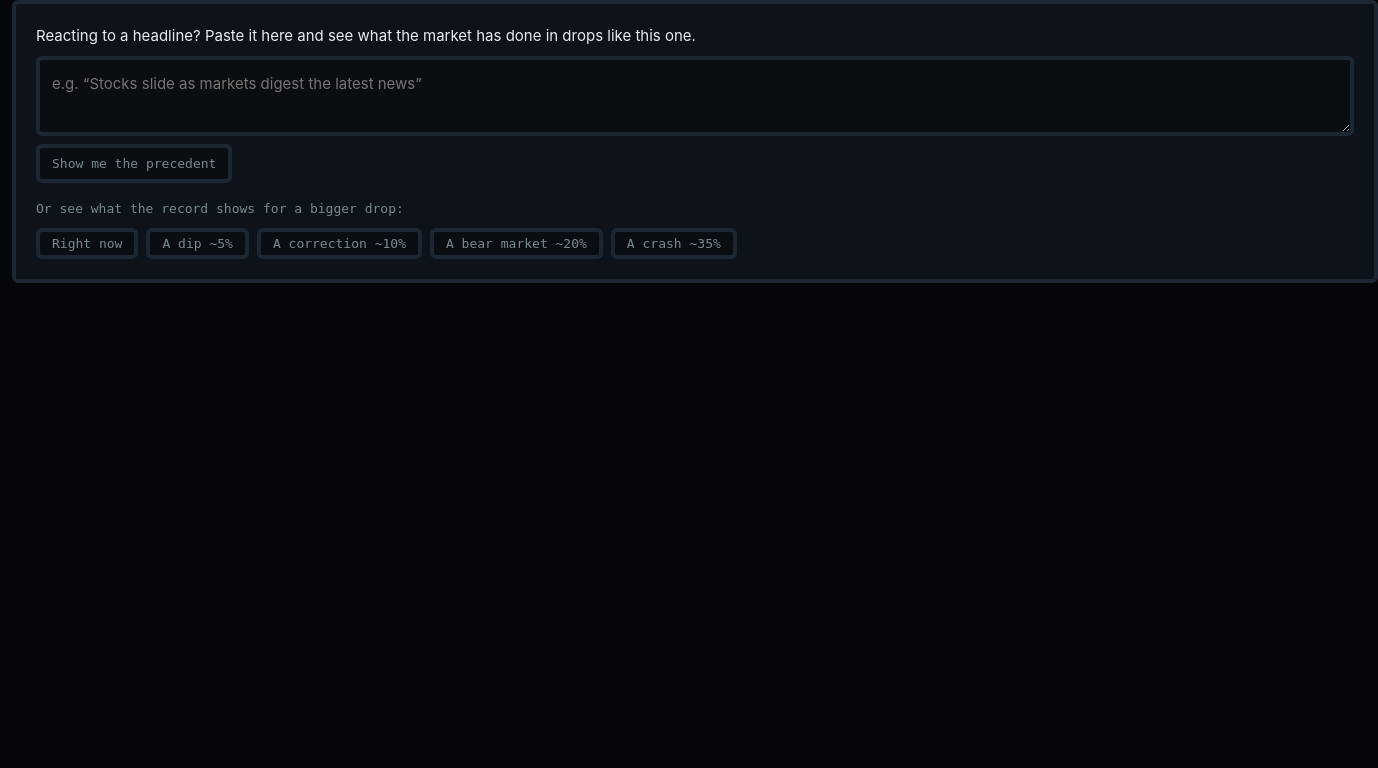
Test case: HeadlineContextualizer — pull-only, calm, non-interpretive › the default submit path (no scenario) still POSTs exactly { headline }
Type "Stocks slide" into the text box with test id "headline-input".
click(695, 96); type("Stocks slide")  # box [36, 56, 1354, 136]
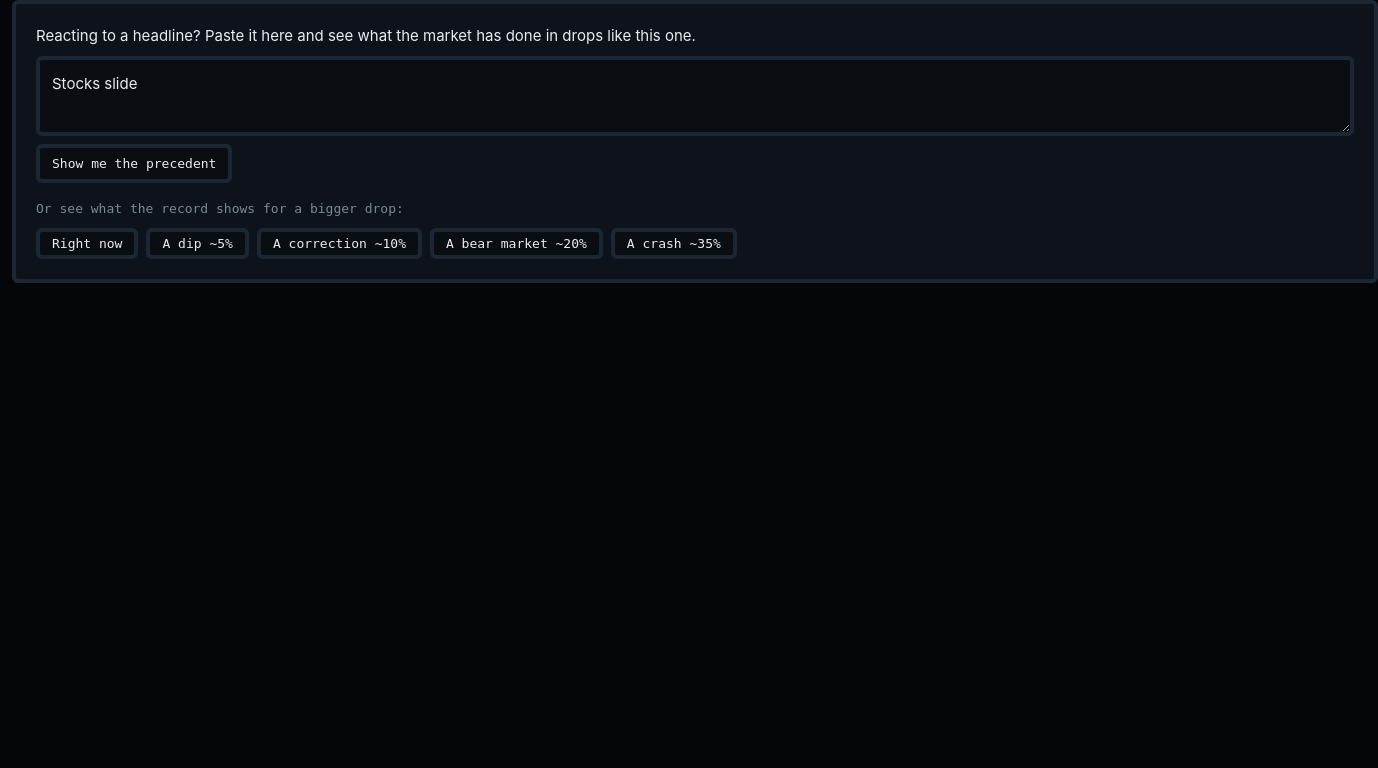
Click the button with test id "headline-submit".
click(134, 164)  # box [36, 144, 232, 183]
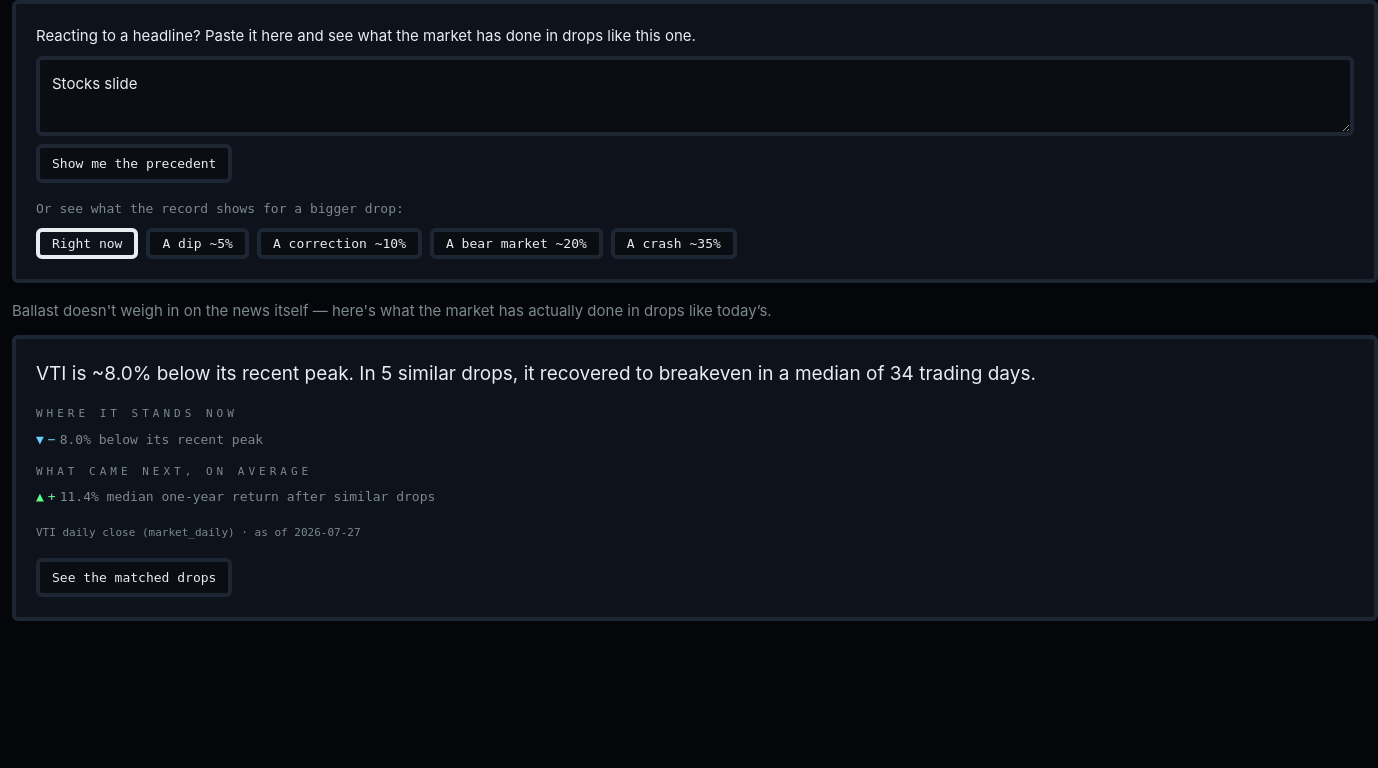
Now the element with test id "precedent-event" is shown, box [12, 335, 1377, 621]
